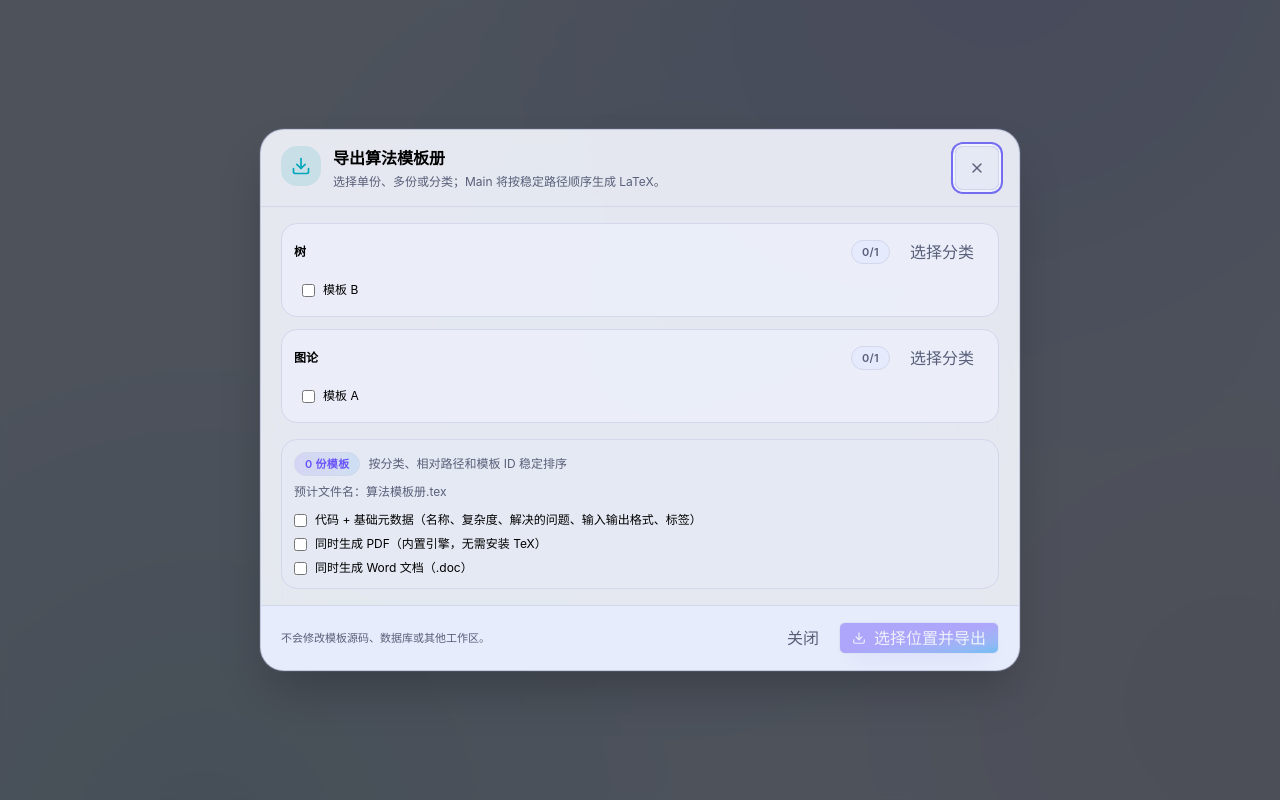
Test case: TemplateExportDialog › selects a category and sends only typed export options
The image size is (1280, 800).
Click the button "选择分类" in the row of "图论" at (942,358), box [898,342,986,374]
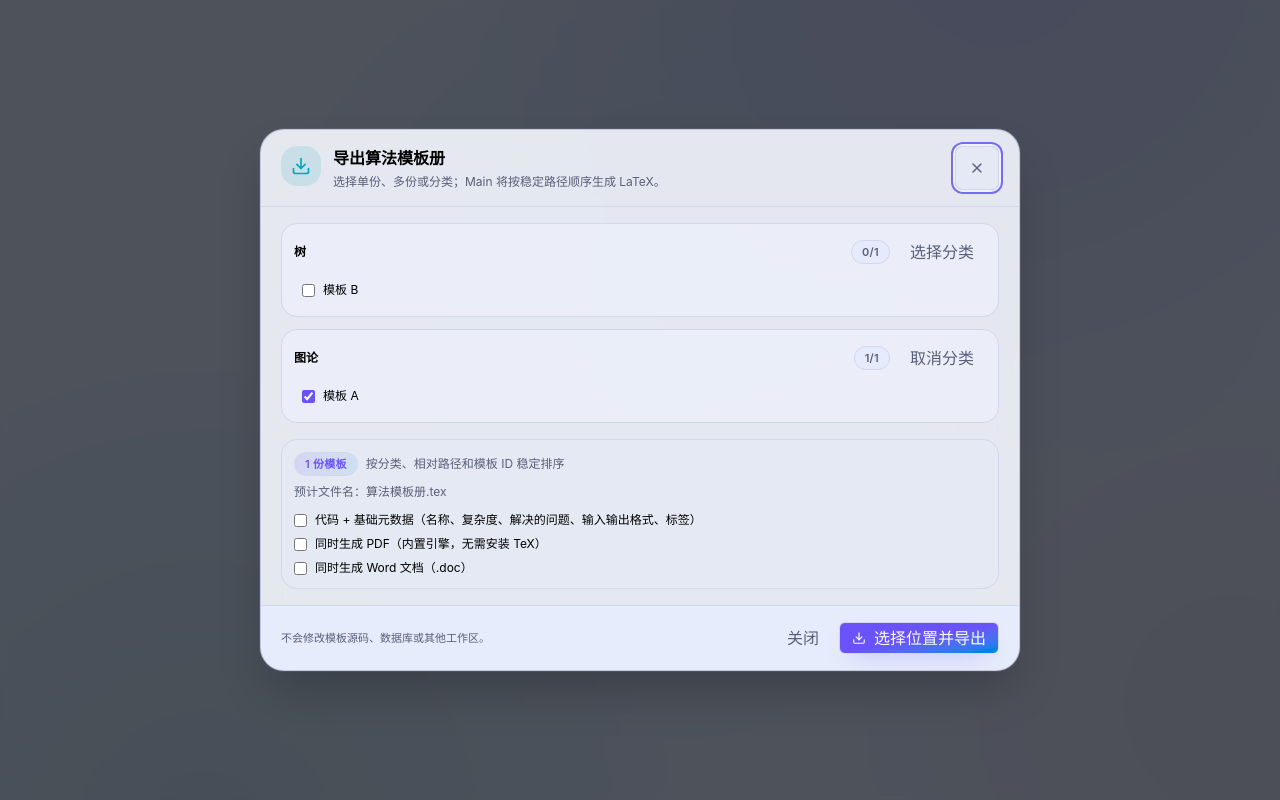
Click the button "选择位置并导出" at (919,638), box [839,622,999,654]
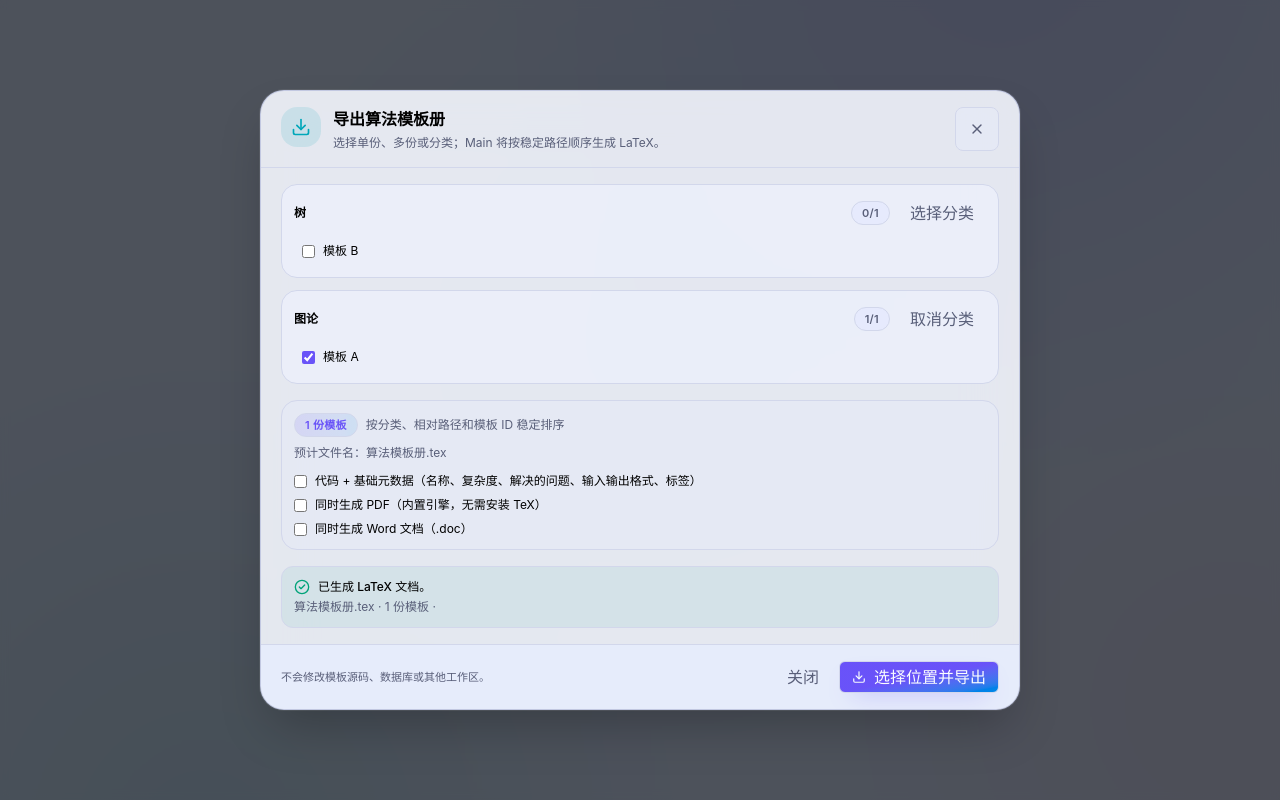
Expected: the message shows "算法模板册.tex", [294,599,374,614]
